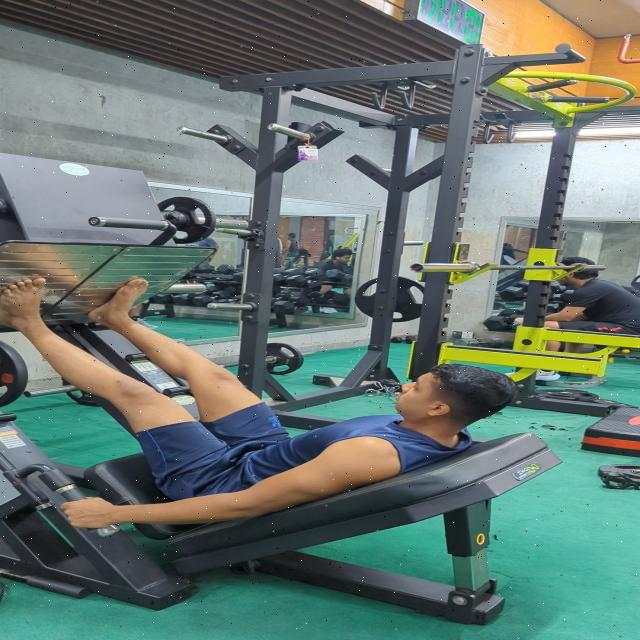Normal_LegPress: (0, 266, 534, 541)
